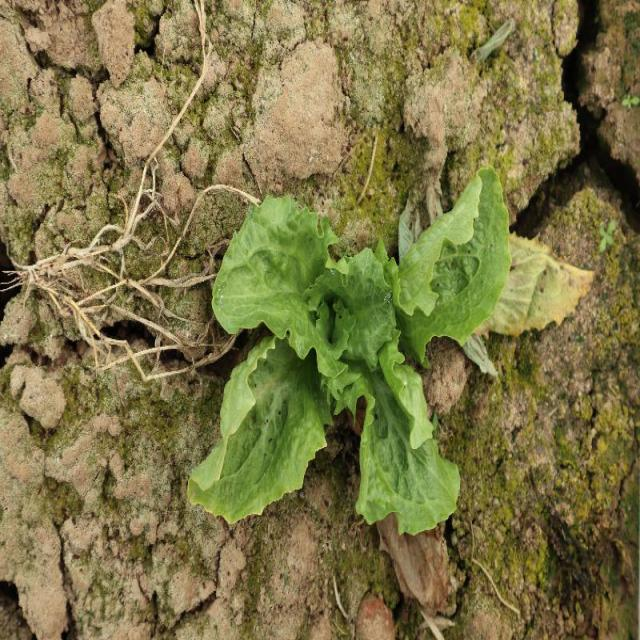crop: (187, 162, 514, 537)
